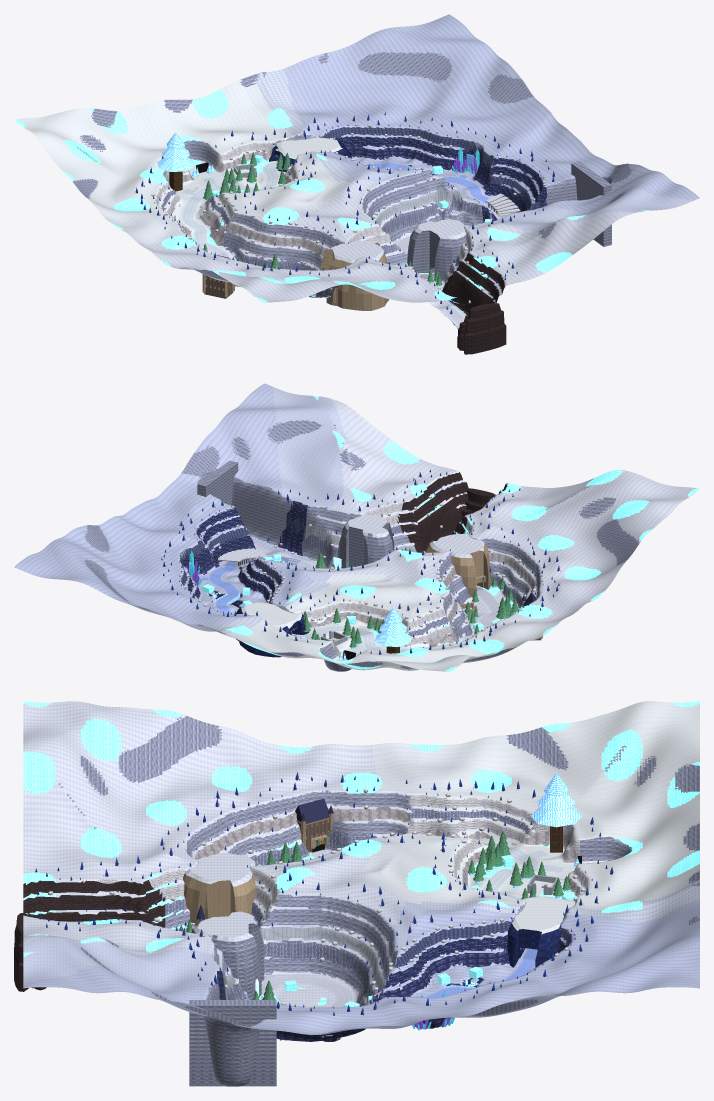
3 views of the same model, one above another, from view 1: azimuth 30°, elevation 25°; view 2: azimuth 150°, elevation 25°; view 3: azimuth 270°, elevation 25° (orthographic). The views are drawn at different scales.
Visible parts, largest first — view 1: Snow Kingdom, Frozen Falls Rock, Gatehouse Rock, Gorge Bend 3, Road 09 summit, Ice Cave Rock, Frozen Pass Bend, Great Keep 30 20 30; view 2: Snow Kingdom, Frozen Falls Rock, Gatehouse Rock, Ice Cave Rock, Frozen Pass Bend, Road 09 summit, Road 15 aurora, Road 05 frostveil; view 3: Snow Kingdom, Frozen Pass Bend, Gatehouse Rock, Frozen Falls Rock, Ice Cave Rock, Great Keep 30 20 30, Road 19 lake, Road 09 summit, Giant Tree Crown 0, Gorge Bend 3.
Part boxes in pixels (x1,y1,x2,y2): Snow Kingdom: (14,14,699,328); Frozen Falls Rock: (407,219,466,280); Gatehouse Rock: (320,241,388,310); Gorge Bend 3: (464,303,506,354); Road 09 summit: (180,161,279,243); Ice Cave Rock: (269,137,352,171); Frozen Pass Bend: (571,161,611,246); Great Keep 30 20 30: (202,252,234,298); Snow Kingdom: (14,383,699,672); Frozen Falls Rock: (337,514,394,568); Gatehouse Rock: (425,533,490,597); Ice Cave Rock: (236,602,309,657); Frozen Pass Bend: (197,460,238,505); Road 09 summit: (291,625,448,652); Road 15 aurora: (208,555,273,593); Road 05 frostveil: (476,586,499,628); Snow Kingdom: (23,701,699,1086); Frozen Pass Bend: (189,1000,276,1086); Gatehouse Rock: (183,853,256,926); Frozen Falls Rock: (191,911,264,999); Ice Cave Rock: (507,896,575,967); Great Keep 30 20 30: (295,798,333,852); Road 19 lake: (261,975,354,1007); Road 09 summit: (476,841,540,899); Giant Tree Crown 0: (530,807,582,827); Gorge Bend 3: (14,913,29,991).
Size of the model in its own units: 620 by 134 by 629.
Materials: 86 (86 with a texture image).
